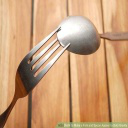Fork: (4, 24, 83, 114)
